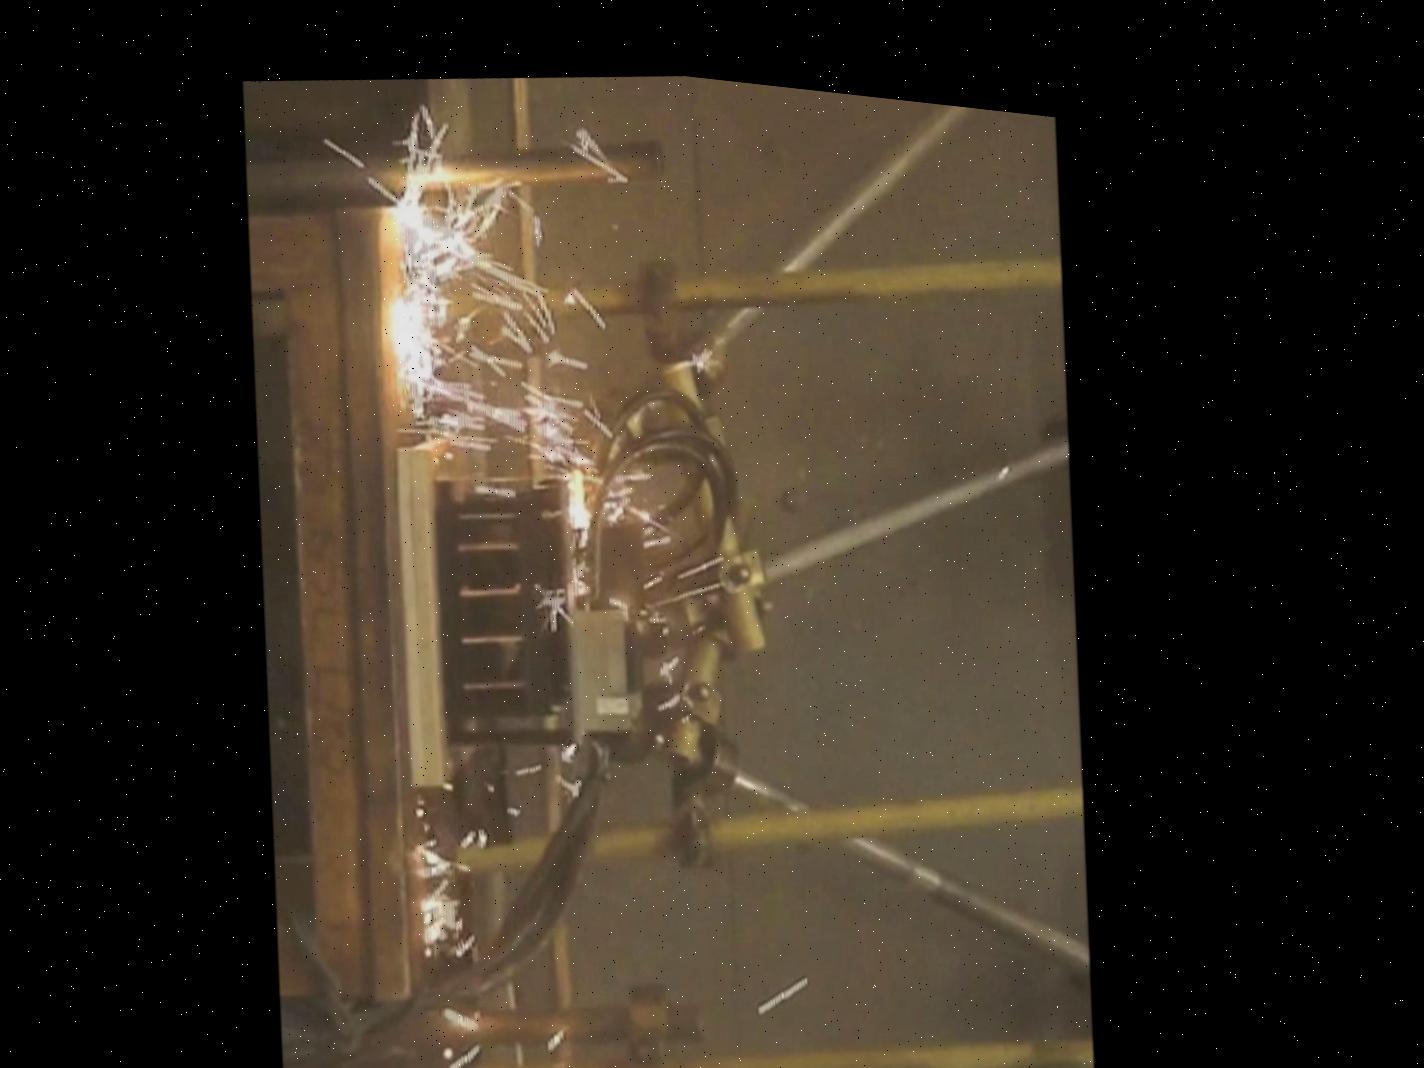fire: (332, 107, 829, 971)
